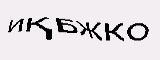Б: (55, 17, 78, 34)
Ж: (75, 20, 104, 42)
И: (7, 17, 24, 34)
К: (105, 22, 125, 43)
О: (126, 21, 149, 41)
Қ: (23, 16, 54, 40)
